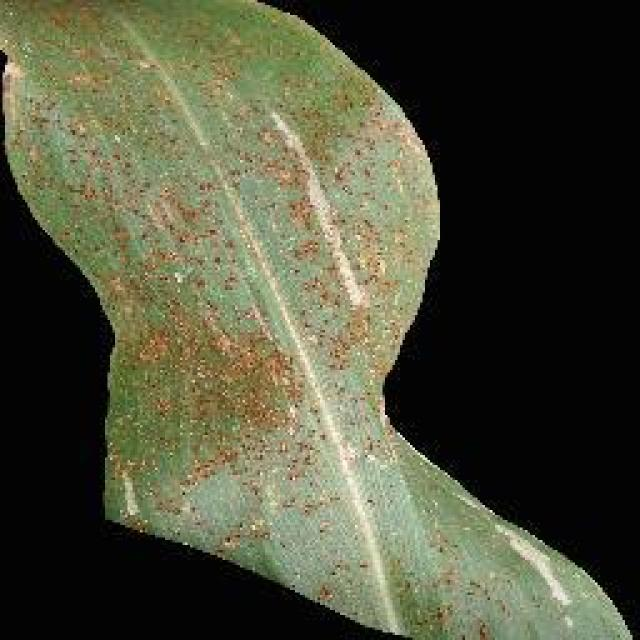Corn Common Rust: (33, 35, 480, 640)
